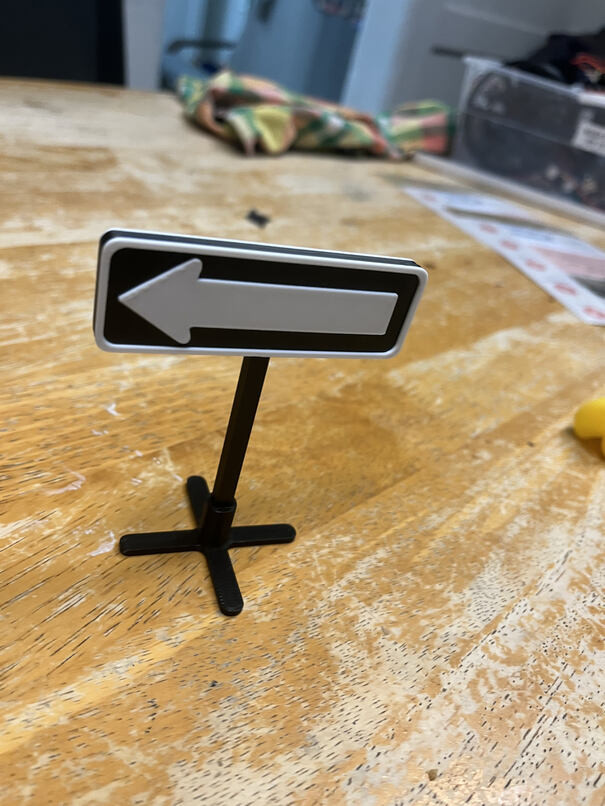sign_oneway_left: (94, 225, 427, 382)
